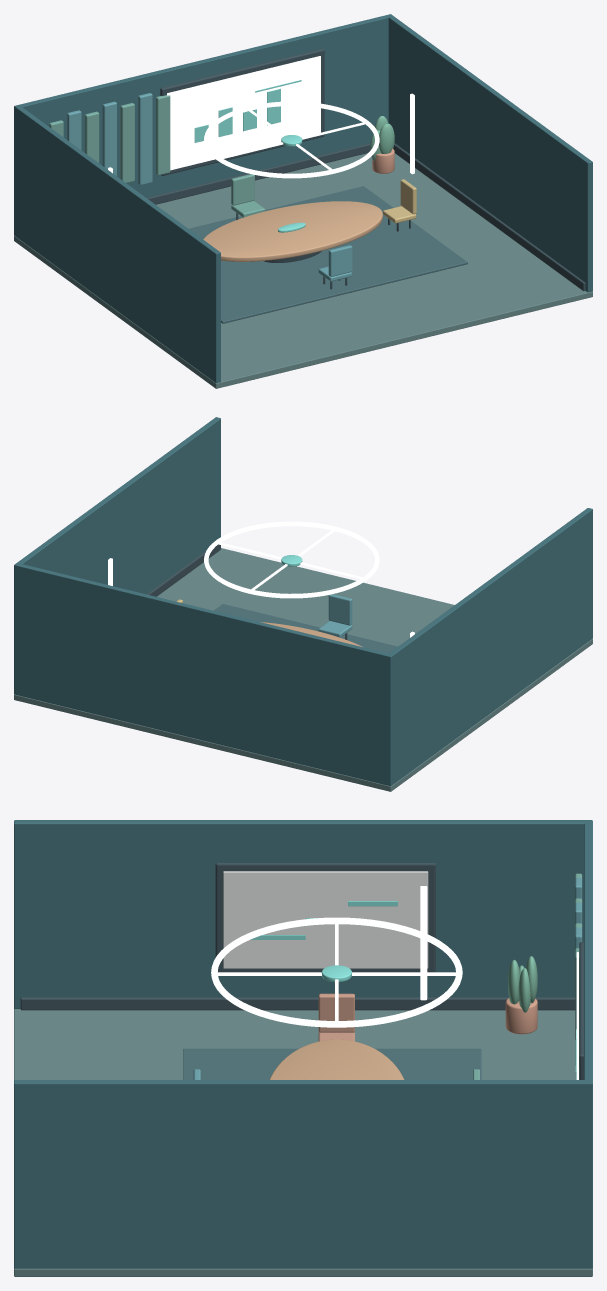
3 renders of one model, top to bottom at view 1: azimuth 30°, elevation 25°; view 2: azimuth 150°, elevation 25°; view 3: azimuth 270°, elevation 25°, orthographic. The views are drawn at different scales.
Parts seen in each view (by area): view 1: Meeting_Floor, Meeting_LeftWall, Meeting_RightWall, Meeting_BackWall, Meeting_Rug, Meeting_MainDisplay_Screen, Meeting_TableTop, Meeting_CeilingHalo, Meeting_RightBaseboard, Meeting_MainDisplay_Frame, Meeting_BackBaseboard, Meeting_AcousticPanel_5 (+7 smaller); view 2: Meeting_BackWall, Meeting_LeftWall, Meeting_RightWall, Meeting_Floor, Meeting_CeilingHalo, Meeting_Rug, Meeting_Chair_Front_Back, Meeting_RightBaseboard; view 3: Meeting_RightWall, Meeting_LeftWall, Meeting_Floor, Meeting_CollaborationWall_Screen, Meeting_LeftBaseboard, Meeting_Rug, Meeting_CollaborationWall_Frame, Meeting_CeilingHalo, Meeting_TableTop, Meeting_BackWall, Meeting_Chair_Left_Back, Meeting_Plant_Left_Pot (+2 smaller).
Part boxes in pixels (box(x1,y1,x2,y2)): Meeting_Floor: box(14, 153, 592, 388); Meeting_LeftWall: box(14, 105, 220, 383); Meeting_RightWall: box(387, 14, 592, 292); Meeting_BackWall: box(14, 14, 392, 236); Meeting_Rug: box(189, 186, 467, 323); Meeting_MainDisplay_Screen: box(167, 56, 320, 170); Meeting_TableTop: box(203, 201, 382, 261); Meeting_CeilingHalo: box(204, 101, 379, 178); Meeting_RightBaseboard: box(393, 143, 585, 290); Meeting_MainDisplay_Frame: box(160, 48, 324, 175); Meeting_BackBaseboard: box(146, 143, 370, 204); Meeting_AcousticPanel_5: box(138, 93, 152, 185); Meeting_BackWall: box(14, 563, 393, 786); Meeting_LeftWall: box(386, 508, 592, 785); Meeting_RightWall: box(15, 417, 220, 594); Meeting_Floor: box(14, 548, 592, 791); Meeting_CeilingHalo: box(204, 521, 379, 598); Meeting_Rug: box(214, 604, 397, 653); Meeting_Chair_Front_Back: box(328, 594, 352, 625); Meeting_RightBaseboard: box(147, 544, 220, 596); Meeting_RightWall: box(14, 1080, 592, 1268); Meeting_LeftWall: box(14, 820, 592, 1008); Meeting_Floor: box(14, 1009, 592, 1276); Meeting_CollaborationWall_Screen: box(223, 871, 428, 968); Meeting_LeftBaseboard: box(20, 997, 575, 1010); Meeting_Rug: box(183, 1048, 481, 1079); Meeting_CollaborationWall_Frame: box(215, 863, 435, 972); Meeting_CeilingHalo: box(211, 917, 462, 1027); Meeting_TableTop: box(269, 1039, 404, 1079); Meeting_BackWall: box(584, 820, 592, 1268); Meeting_Chair_Left_Back: box(318, 993, 354, 1032); Meeting_Plant_Left_Pot: box(505, 998, 537, 1034).
Bounding box in the file's own units: 14 × 4.8 × 13.
